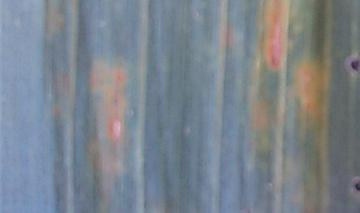tarspot: (350, 59, 360, 71), (354, 181, 360, 193)
